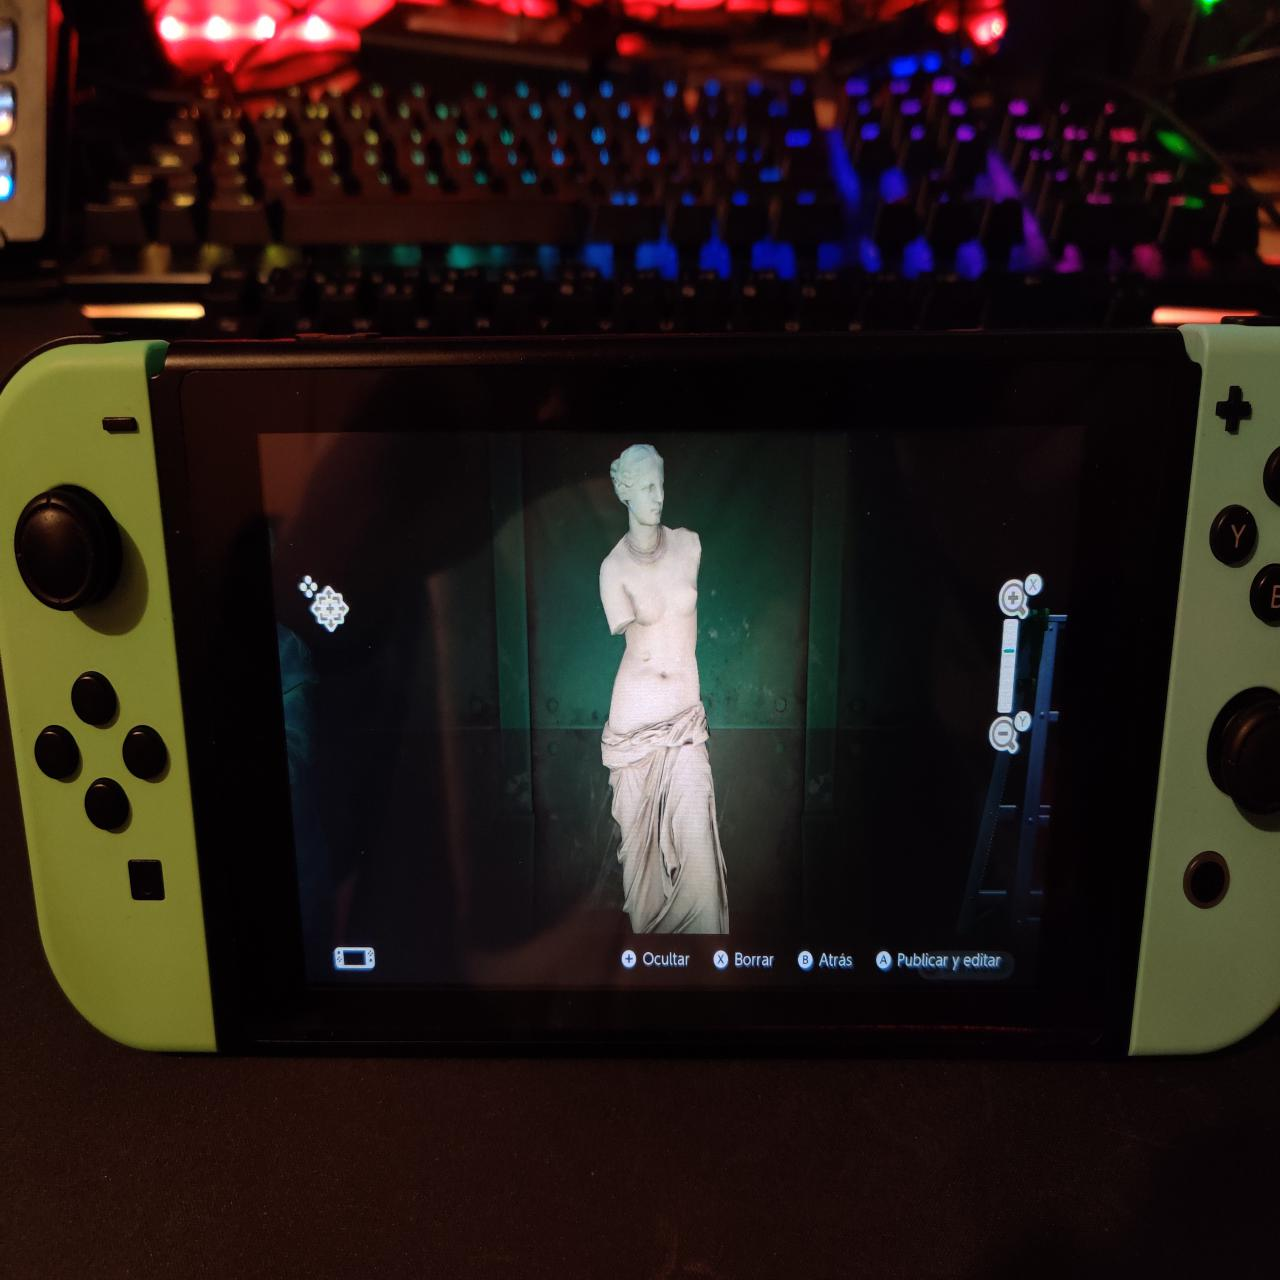MiloFake: (599, 433, 737, 941)
